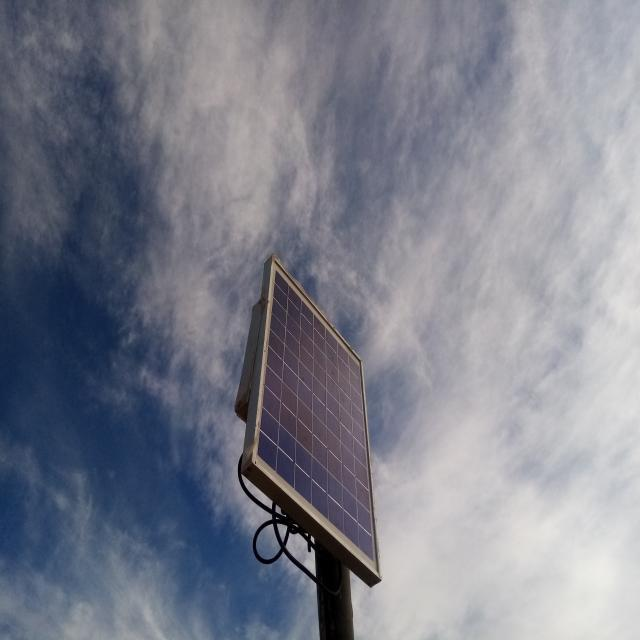no faulty: (252, 255, 380, 576)
